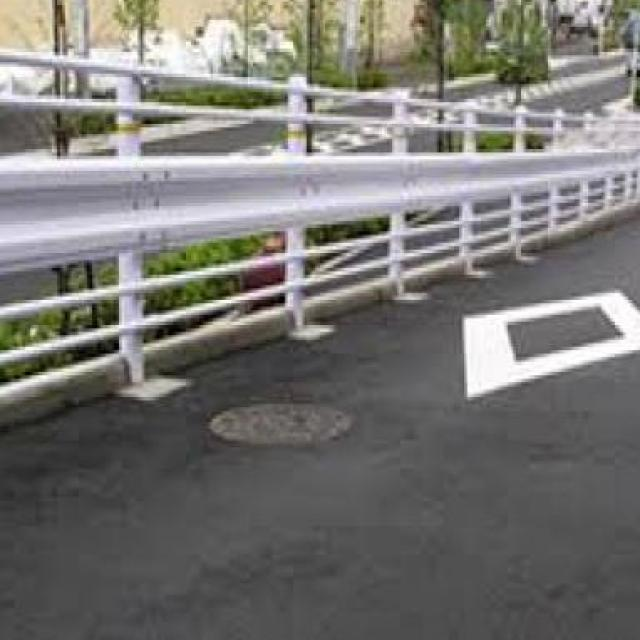Guard rail: (0, 54, 640, 434)
